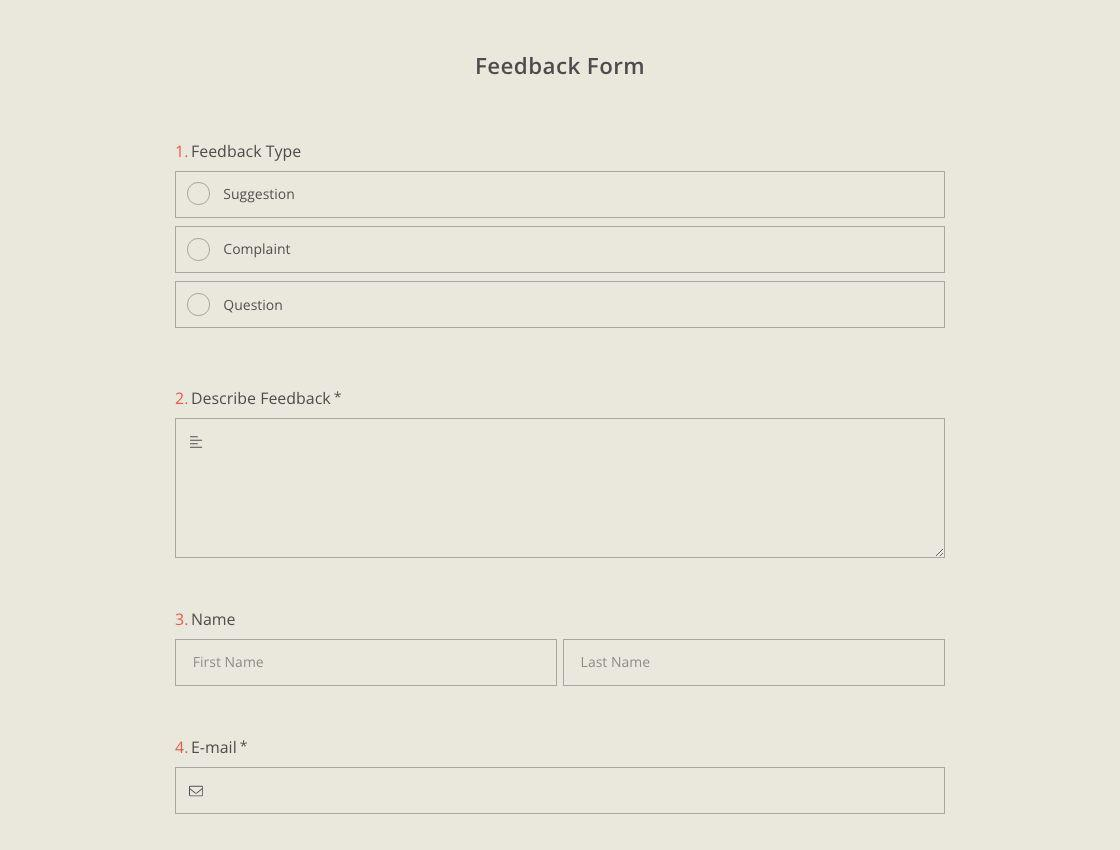icon: (187, 784, 206, 800)
input: (173, 766, 948, 818), (563, 637, 948, 690), (176, 637, 560, 690)
label: (471, 53, 650, 84), (191, 139, 314, 166), (189, 388, 351, 408), (219, 186, 298, 204), (218, 242, 296, 259), (223, 298, 285, 316), (191, 739, 253, 757), (192, 612, 240, 630)
radio: (185, 236, 214, 264), (186, 291, 212, 319), (188, 182, 214, 208)
